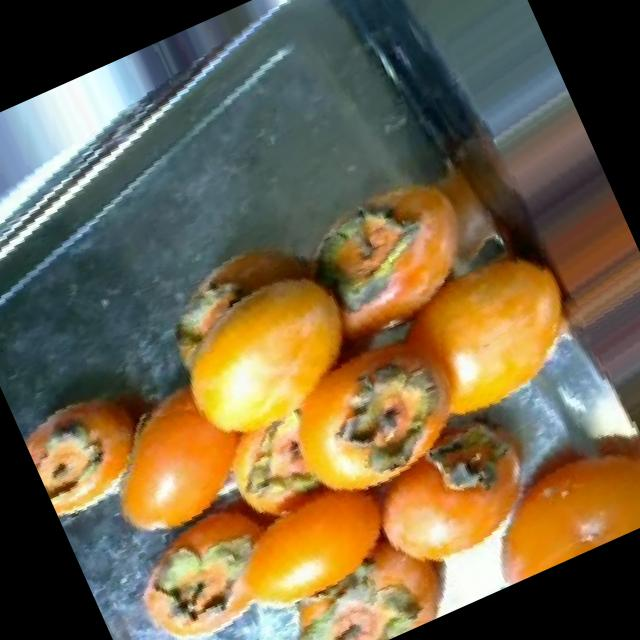Fruit: (375, 207, 622, 447), (60, 346, 290, 564), (10, 356, 186, 530)
